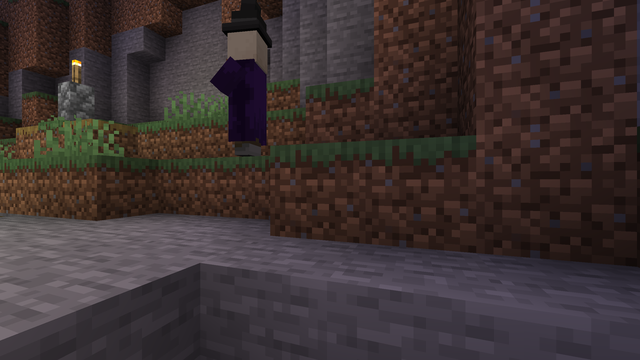sorcieres: (220, 20, 273, 157)
